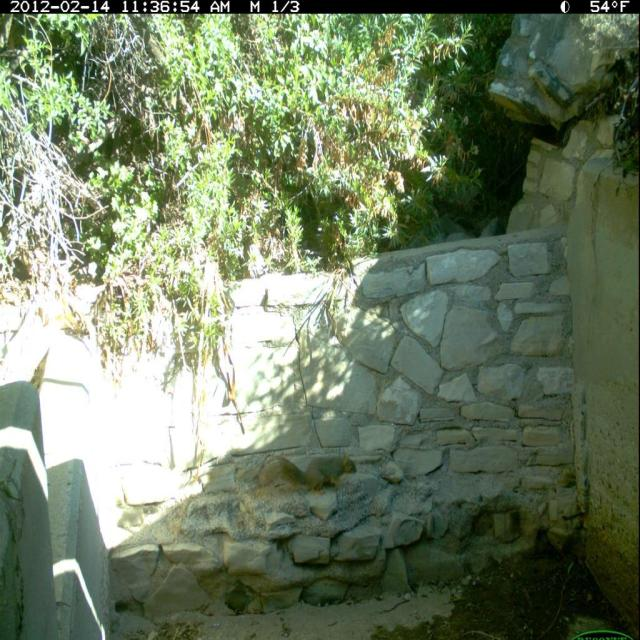squirrel: (262, 446, 363, 505)
